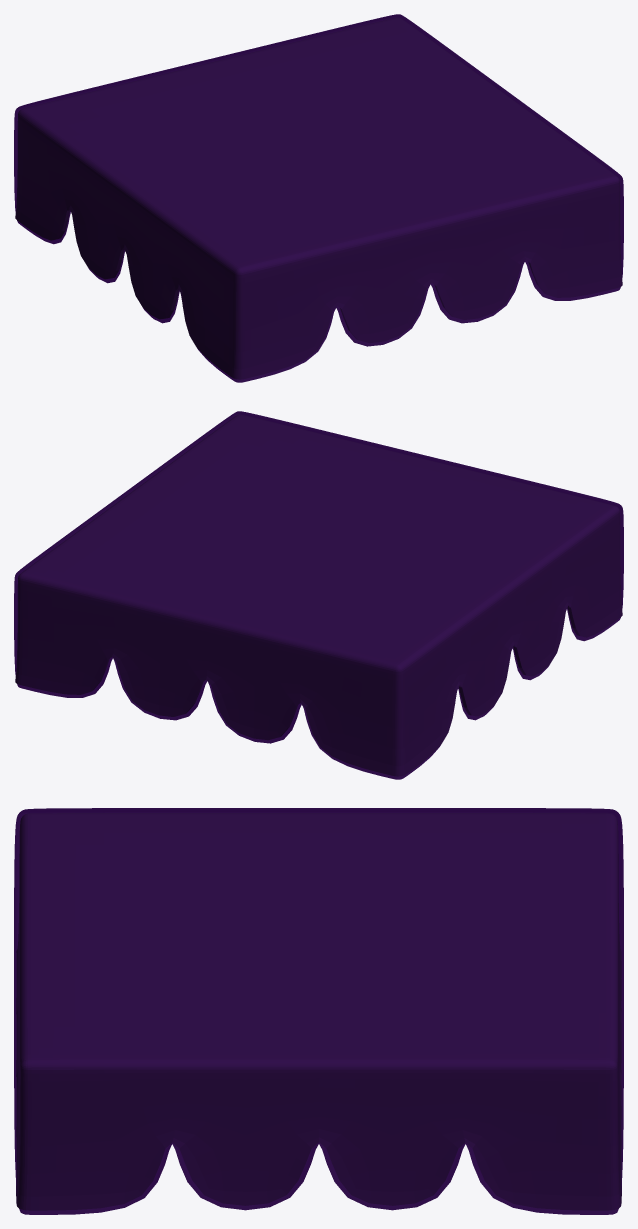
The model's file is quadrado preto.glb.
3 renders of one model, top to bottom at view 1: azimuth 30°, elevation 25°; view 2: azimuth 150°, elevation 25°; view 3: azimuth 270°, elevation 25°, orthographic. The views are drawn at different scales.
Visible parts, largest first — view 1: Cube.018; view 2: Cube.018; view 3: Cube.018.
Boxes of the visible parts, x1=… form: Cube.018: x1=14, y1=14, x2=623, y2=382; Cube.018: x1=14, y1=411, x2=623, y2=779; Cube.018: x1=14, y1=808, x2=623, y2=1214.
Bounding box in the file's own units: 22.35 × 6.37 × 22.35.
